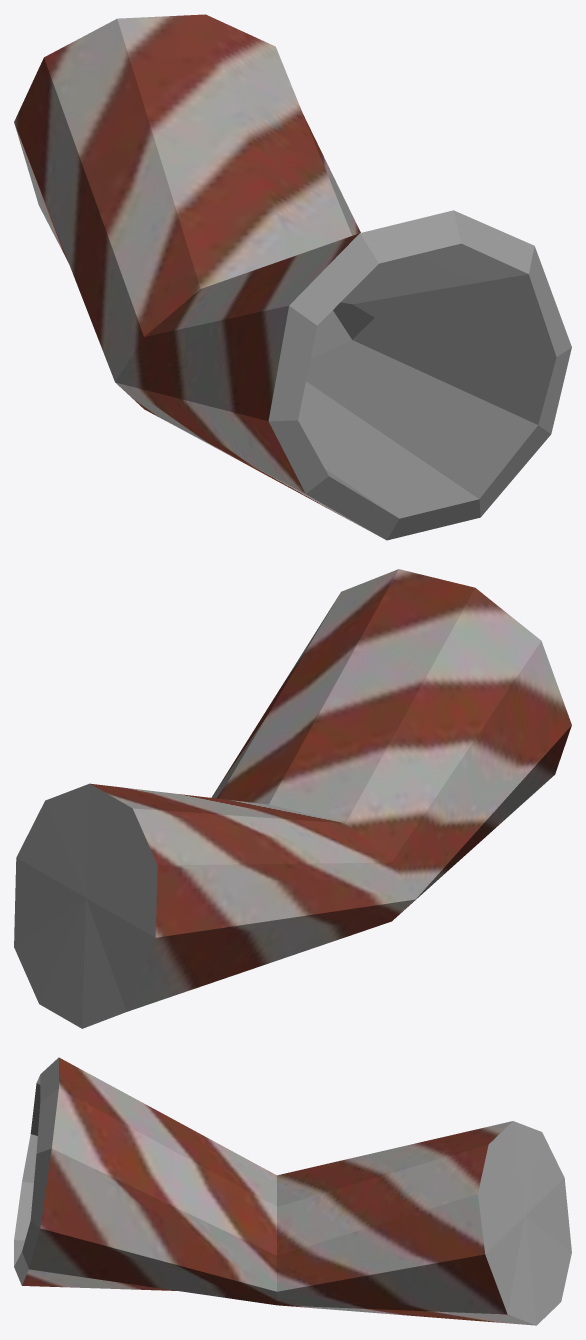
Rendered from SM_Prop_Rubbish_Milkshake_02.glb.
3 views of the same model, one above another, from view 1: azimuth 30°, elevation 25°; view 2: azimuth 150°, elevation 25°; view 3: azimuth 270°, elevation 25° (orthographic). The views are drawn at different scales.
Parts seen in each view (by area): view 1: SM_Prop_Rubbish_Milkshake_02; view 2: SM_Prop_Rubbish_Milkshake_02; view 3: SM_Prop_Rubbish_Milkshake_02.
Boxes of the visible parts, x1,y1,x2,y2 form: SM_Prop_Rubbish_Milkshake_02: (14,14,571,540); SM_Prop_Rubbish_Milkshake_02: (14,569,571,1028); SM_Prop_Rubbish_Milkshake_02: (14,1057,571,1325).
Bounding box in the file's own units: 12.21 × 9.84 × 24.14.
1 material, 1 textured.
